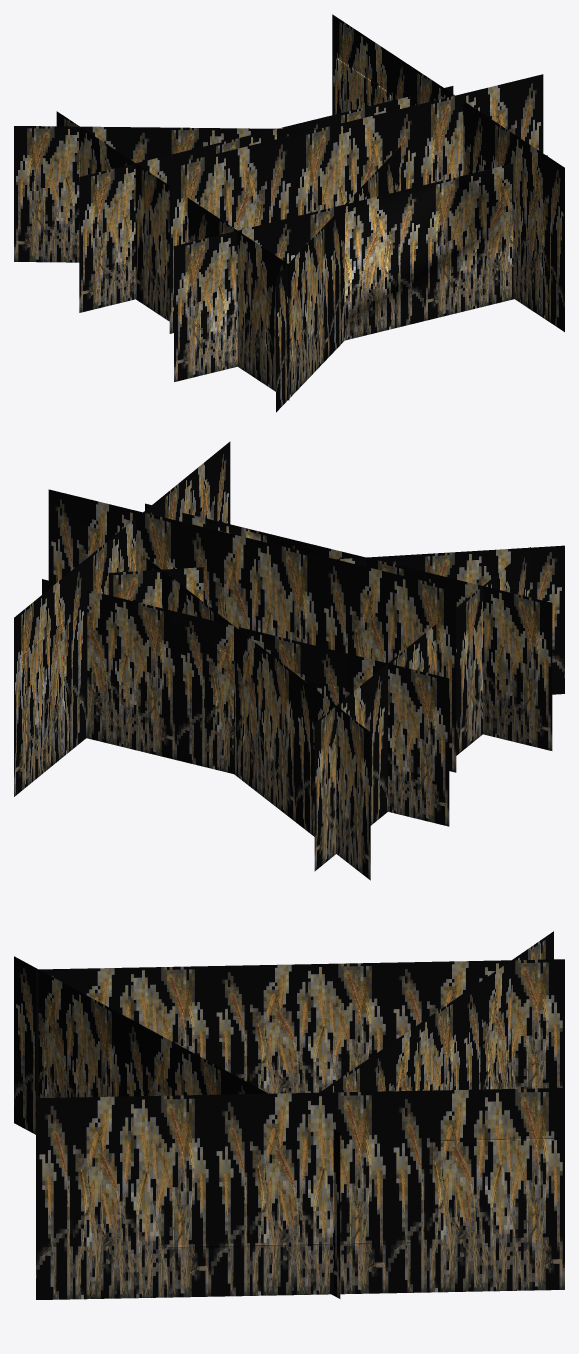
Rendered from NW_NATURE_PLANT_03.glb.
3 renders of one model, top to bottom at view 1: azimuth 30°, elevation 25°; view 2: azimuth 150°, elevation 25°; view 3: azimuth 270°, elevation 25°, orthographic. The views are drawn at different scales.
Parts seen in each view (by area): view 1: Mesh; view 2: Mesh; view 3: Mesh.
Boxes of the visible parts, left/top/right/bottom form: Mesh: left=14, top=14, right=564, bottom=412; Mesh: left=14, top=441, right=564, bottom=880; Mesh: left=14, top=931, right=564, bottom=1299.
Bounding box in the file's own units: 4.89 × 1.94 × 4.57.
Materials: 1 (1 with a texture image).
